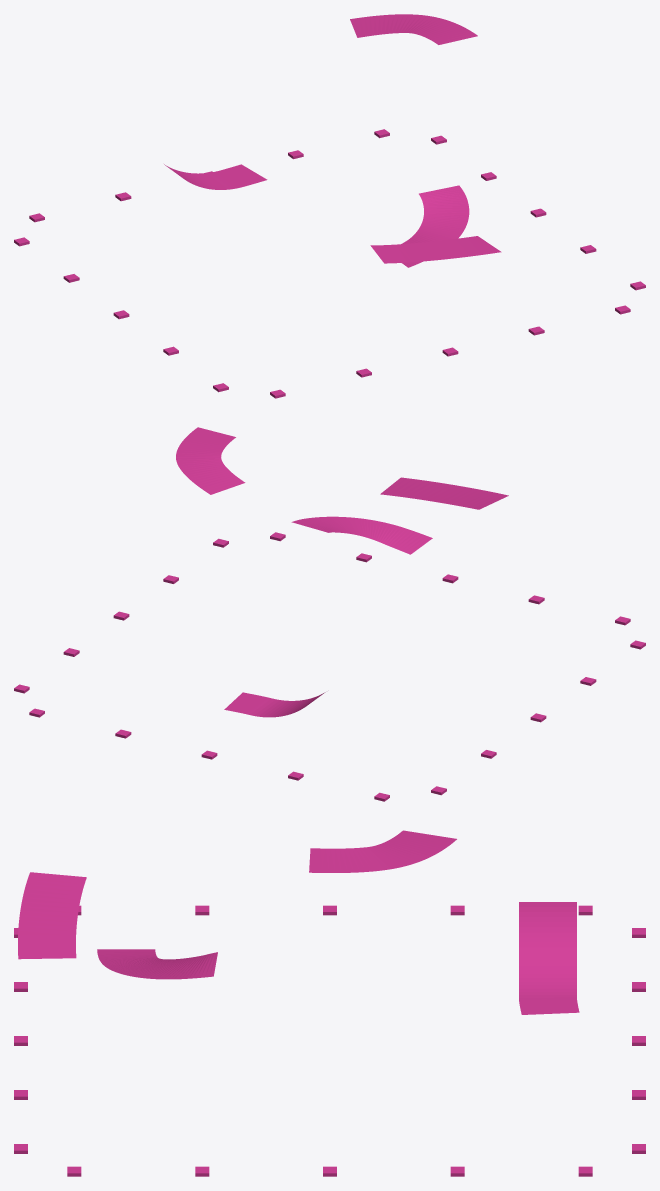
File: circuit-part-3.glb
The picture shows the model from 3 angles, top to bottom: view 1: azimuth 30°, elevation 25°; view 2: azimuth 150°, elevation 25°; view 3: azimuth 270°, elevation 25°; orthographic projection. The views are drawn at different scales.
Visible parts, largest first — view 1: track-part-0; view 2: track-part-0; view 3: track-part-0.
Boxes of the visible parts, box(x1,y1,x2,y2) form: track-part-0: box(14, 14, 645, 398); track-part-0: box(14, 427, 645, 801); track-part-0: box(14, 830, 645, 1176).
Bounding box in the file's own units: 27.26 × 12.24 × 27.2.
